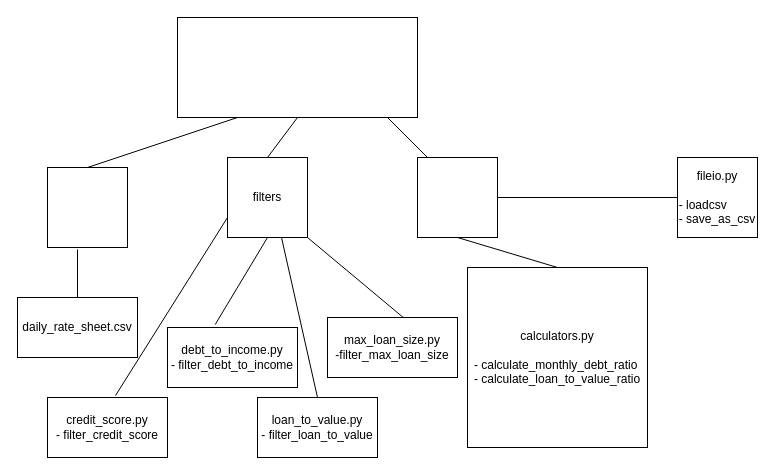
The diagram is 775 pixels wide and 475 high, and some of its shapes have lost their labels. Here are the shapes that lost their labels. From the top down, the centre of each, then its label:
the point at 297,67: app.py - input path - save qualifying loan records
the point at 87,207: data
the point at 457,197: utils
